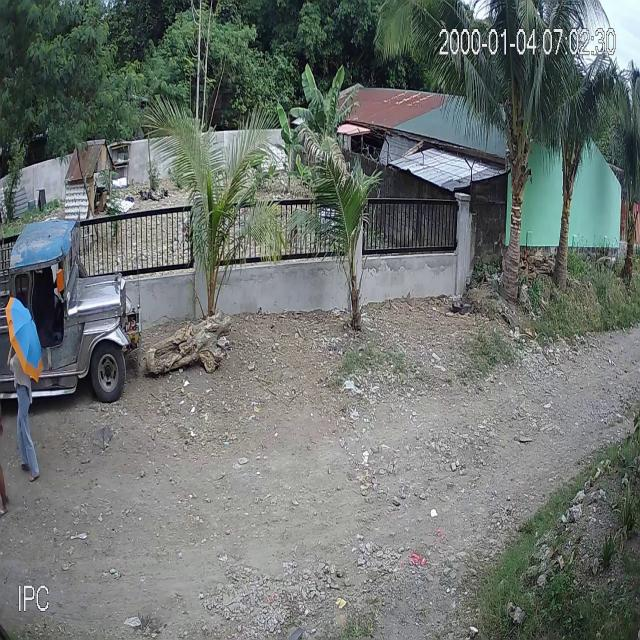walking: (5, 294, 47, 484), (1, 393, 18, 522)
